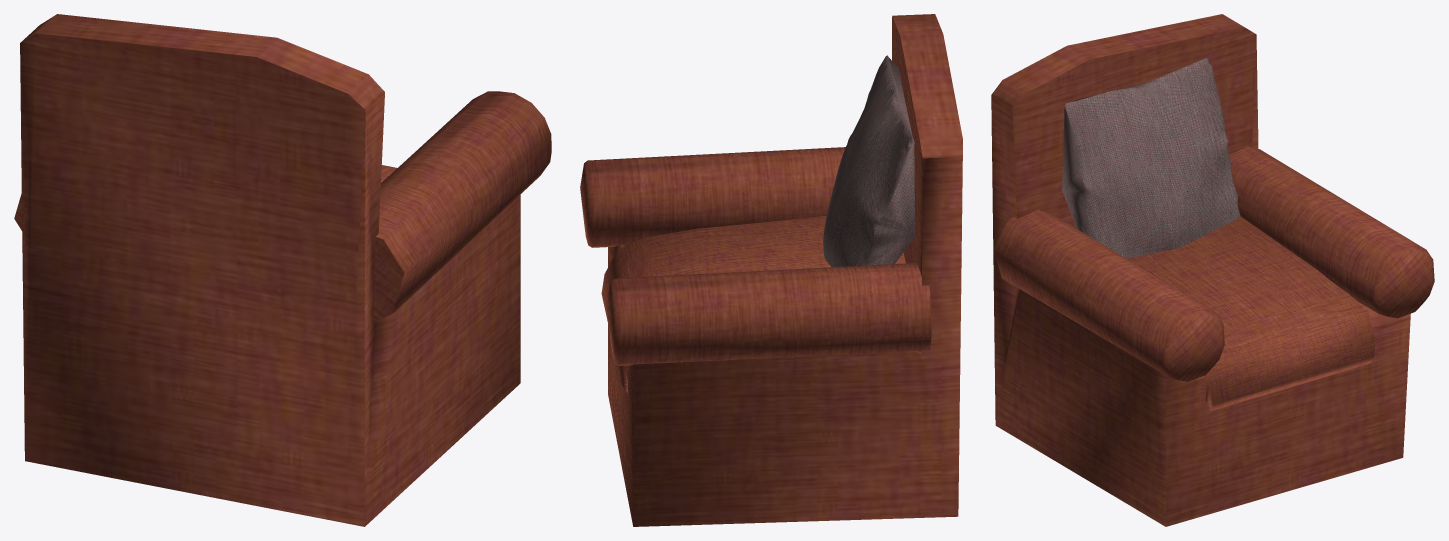
Rendered from comfy_couch.glb.
3 renders of one model, left to right at view 1: azimuth 30°, elevation 25°; view 2: azimuth 150°, elevation 25°; view 3: azimuth 270°, elevation 25°, orthographic. The views are drawn at different scales.
Visible parts, largest first — view 1: Cube.014_0, Cylinder.004_3; view 2: Cube.014_0, Cylinder.005_4, Cylinder.004_3, Cube.015_1, Cube.656_2; view 3: Cube.014_0, Cube.015_1, Cube.656_2, Cylinder.004_3, Cylinder.005_4.
Part boxes in pixels (bbox=[...]): Cube.014_0: bbox=[20, 14, 520, 526]; Cylinder.004_3: bbox=[373, 91, 551, 320]; Cube.014_0: bbox=[608, 14, 962, 526]; Cylinder.005_4: bbox=[606, 263, 931, 365]; Cylinder.004_3: bbox=[580, 147, 845, 247]; Cube.015_1: bbox=[823, 55, 915, 267]; Cube.656_2: bbox=[601, 215, 905, 393]; Cube.014_0: bbox=[991, 14, 1410, 526]; Cube.015_1: bbox=[1062, 58, 1240, 258]; Cube.656_2: bbox=[1127, 216, 1375, 411]; Cylinder.004_3: bbox=[993, 210, 1224, 381]; Cylinder.005_4: bbox=[1229, 146, 1434, 318].
Bounding box in the file's own units: 1.13 × 1 × 1.13.
Materials: 2 (2 with a texture image).
